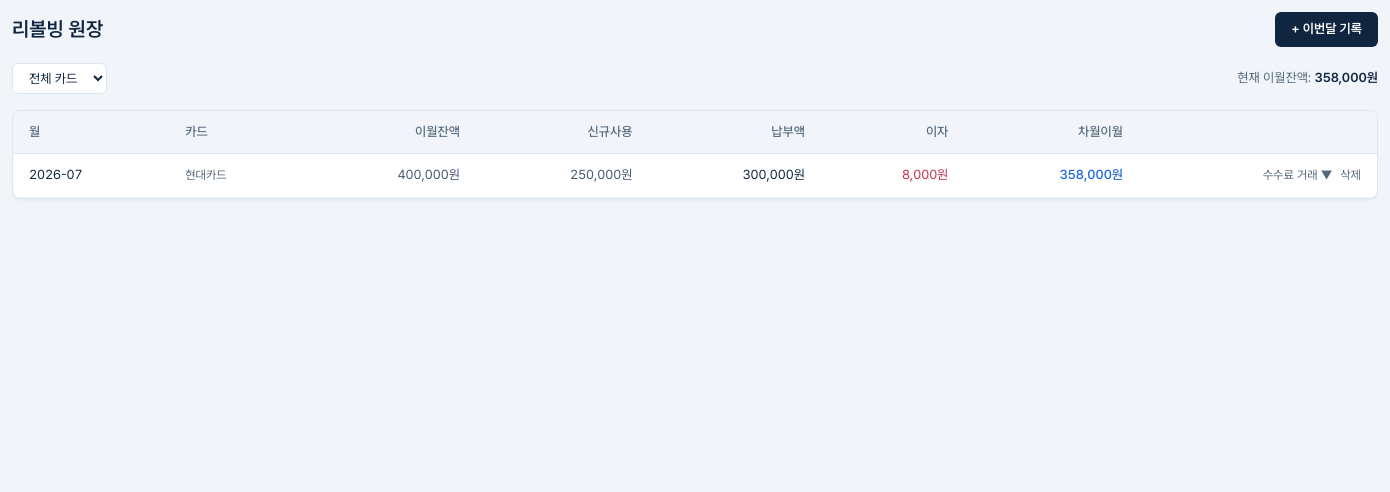
Test: 월 기록 등록 › 월 기본값은 이번 달이다
Click the button "+ 이번달 기록" at (1327, 29), box [1275, 12, 1378, 47]
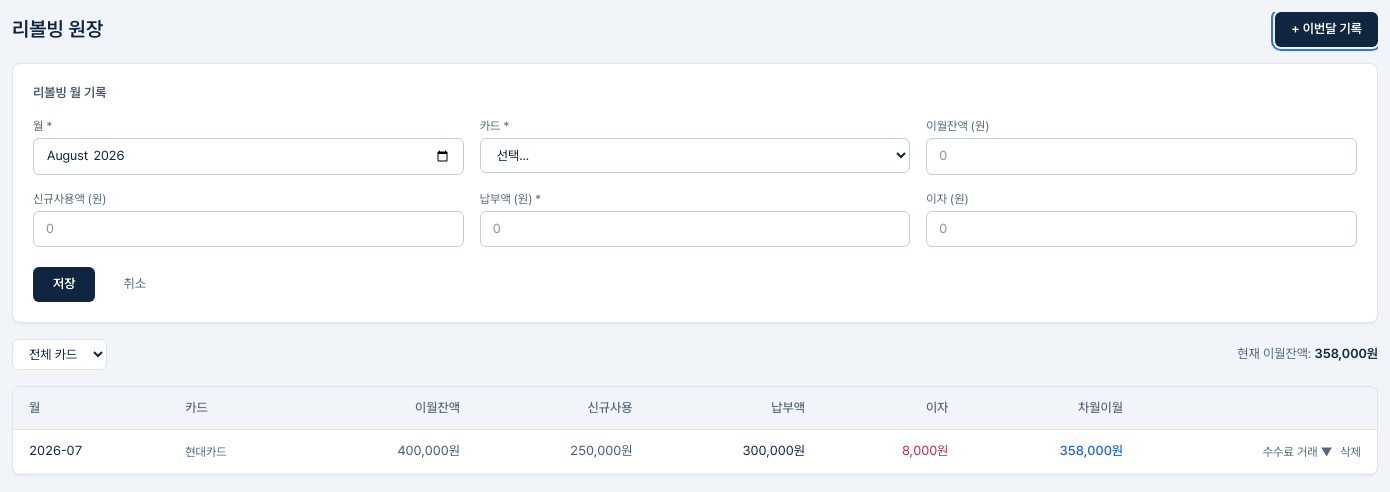
Expected: the field labelled "월 *" holds "2026-08", [33, 138, 464, 175]
